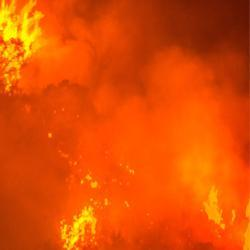fire: (3, 11, 37, 72), (56, 209, 93, 244), (201, 190, 232, 231)
